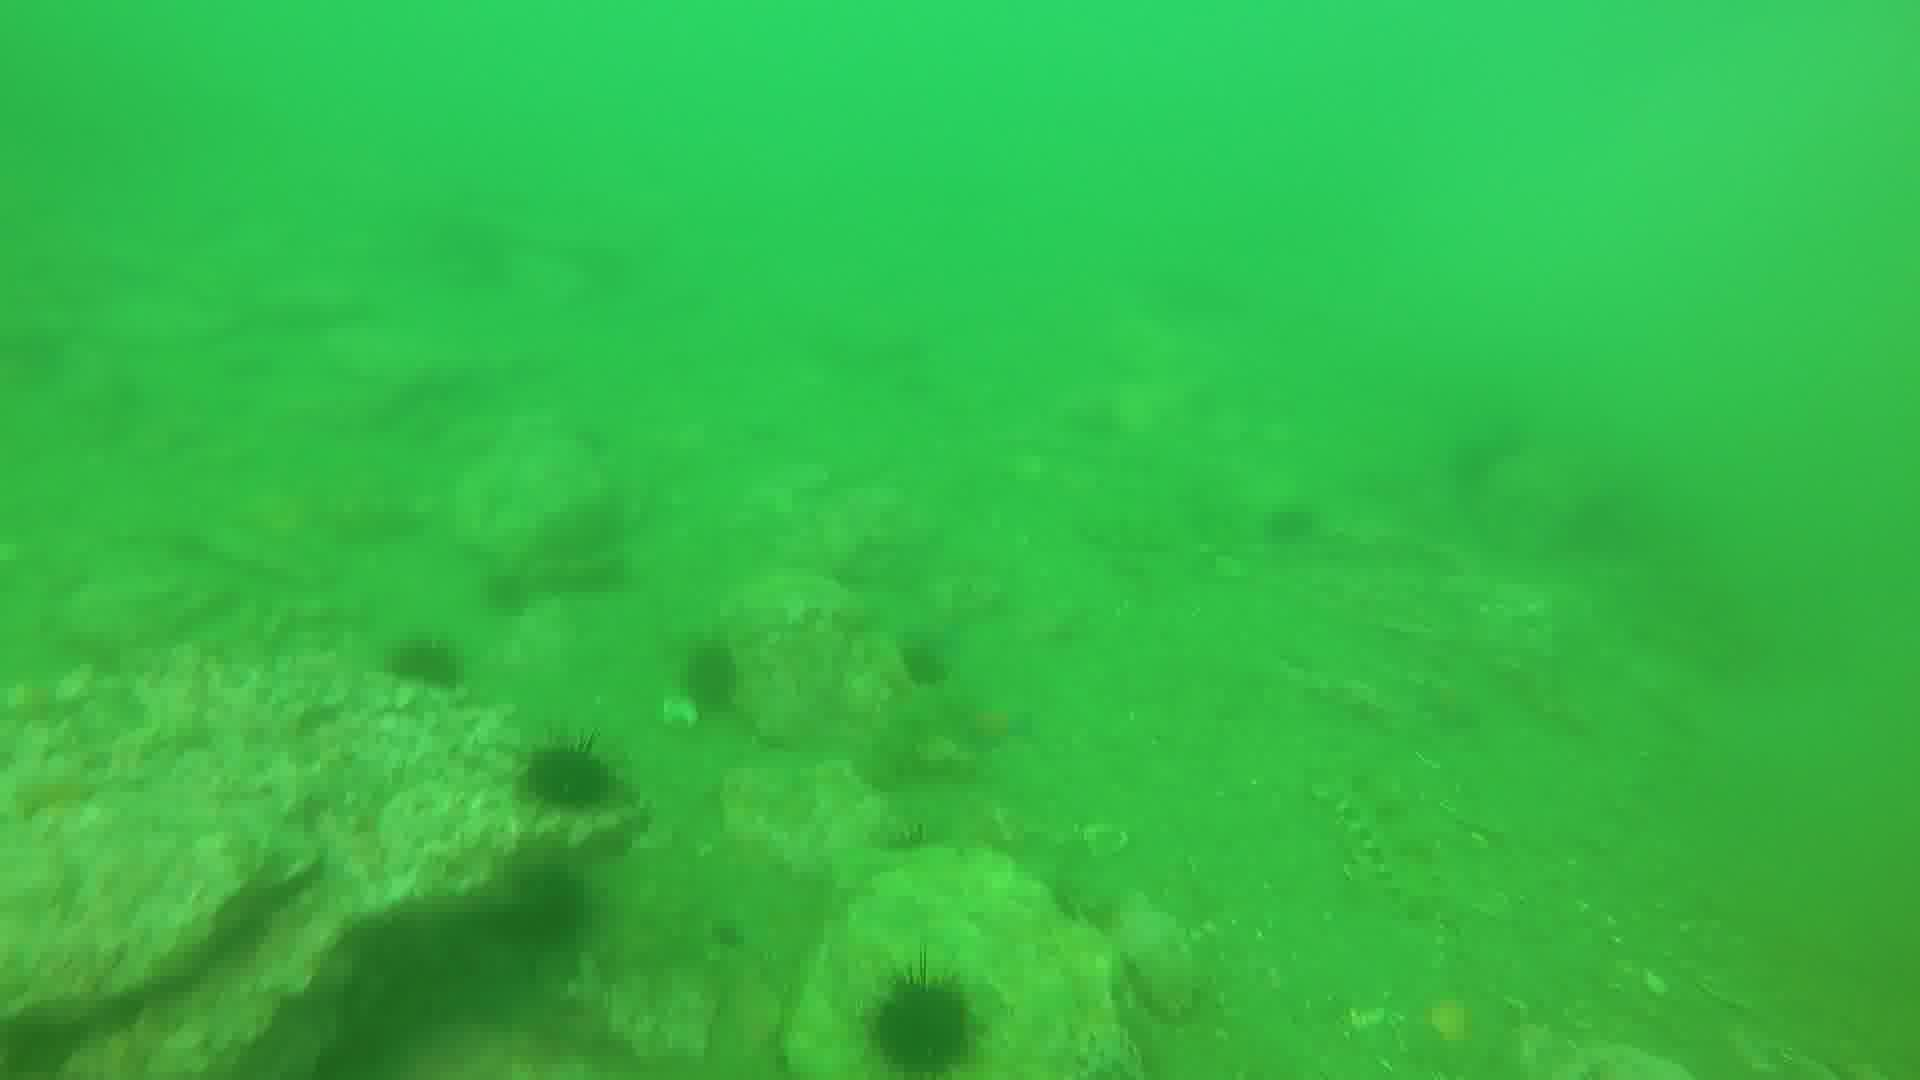echinus: (876, 975, 981, 1079), (489, 874, 592, 943), (526, 738, 621, 802), (872, 823, 945, 887), (676, 644, 745, 711), (897, 628, 960, 690), (402, 636, 469, 692)
holothurian: (1335, 767, 1465, 920)
